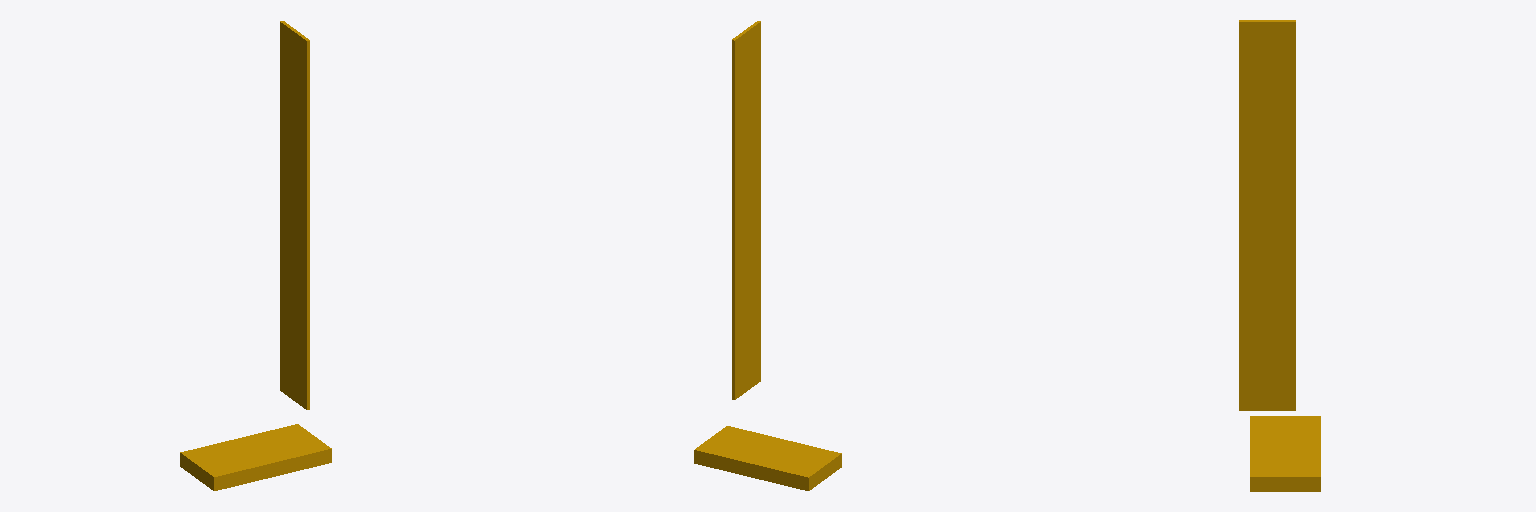
The robot description file, URDF, robot "threedofexample":
<?xml version="1.0"?>

<robot name="threedofexample">

  <!-- ******************************************************** -->
  <!-- ******************* Kinematic Chain ******************** -->
  <!-- ******************************************************** -->
  <!-- Note the 'origin' tag in the joints defines the shift and
       reorientation, i.e. the transform.  For moving joints, this
       happens before the continuous joint rotates around 'axis'. -->

  <!-- World can't take a visual element (at least in Gazebo). -->
  <link name="world"/>

  <joint name="placement" type="fixed">
    <parent link="world"/>
    <child  link="baseplate"/>
    <origin xyz="0 0 0" rpy="0 0 0"/>			<!-- WHERE IS THE BASE -->
  </joint>

  <!-- BASE PLATE: Shift across the base plate to the base motor. --> 
  <link name="baseplate">
    <visual>
      <origin xyz="0.0 0.025 0.0125" rpy="0 0 0"/>
      <geometry>
	<box size="0.2 0.1 0.0230"/>
      </geometry>
      <material name="wood"/>
    </visual>
  </link>

  <joint name="baseplate" type="fixed">
    <parent link="baseplate"/>
    <child  link="basemotor"/>
    <origin xyz="0 0 0.0230" rpy="0 0 -1.5708"/>
  </joint>

  <!-- BASE MOTOR: Thickness: X5 = 31.1mm, X8 = 45.1mm -->
  <link name="basemotor">
    <visual>
      <geometry>
        <mesh filename="package://basic134/meshes/X5.stl"
	      scale="0.001 0.001 0.001"/>
      </geometry>
      <material name="hebi"/>
    </visual>
  </link>

  <joint name="base" type="continuous">
    <parent link="basemotor"/>
    <child  link="lbracket"/>
    <origin xyz="0 0 0.0311" rpy="0 0 0"/>
    <axis   xyz="0 0 1"/>
  </joint>

  <!-- L BRACKET: Shift and rotate across the L bracket. -->
  <link name="lbracket">
    <!-- Add a visual element -->
  </link>

  <joint name="lbracket" type="fixed">
    <parent link="lbracket"/>
    <child  link="shouldermotor"/>
    <origin xyz="0 0.1 0.1" rpy="0 -1.5708 1.5708"/>	  <!-- L BRACKET DIMENIONS -->
  </joint>

  <!-- SHOULDER MOTOR: Thickness: X5 = 31.1mm, X8 = 45.1mm -->
  <link name="shouldermotor">
    <visual>
      <geometry>
        <mesh filename="package://basic134/meshes/X8.stl"
	      scale="0.001 0.001 0.001"/>
      </geometry>
      <material name="hebi"/>
    </visual>
  </link>

  <joint name="shoulder" type="continuous">
    <parent link="shouldermotor"/>
    <child  link="upperarm"/>
    <origin xyz="0 0 0.0451" rpy="0 0 0"/>
    <axis   xyz="0 0 1"/>
  </joint>

  <!-- UPPER ARM: Shift across the upper arm (1/4in thickness) -->
  <link name="upperarm">
    <visual>
      <origin xyz="0.25 0 0.00285" rpy="0 0 0"/>
      <geometry>
	<box size="0.6 0.08 0.00570"/>
      </geometry>
      <material name="wood"/>
    </visual>
    <!-- Add a visual element -->
  </link>

  <joint name="upperarm" type="fixed">
    <parent link="upperarm"/>
    <child  link="elbowmotor"/>
    <origin xyz="0.5 0 0.0057" rpy="0 0 0"/>		  <!-- UPPER ARM DIMENIONS -->
  </joint>

  <!-- Elbow motor.  Thickness: X5 = 31.1mm, X8 = 45.1mm -->
  <link name="elbowmotor">
    <visual>
      <geometry>
        <mesh filename="package://basic134/meshes/X5.stl"
	      scale="0.001 0.001 0.001"/>
      </geometry>
      <material name="hebi"/>
    </visual>
  </link>

  <joint name="elbow" type="continuous">
    <parent link="elbowmotor"/>
    <child  link="lowerarm"/>
    <origin xyz="0 0 0.0311" rpy="0 0 0"/>
    <axis   xyz="0 0 1"/>
  </joint>

  <!-- Shift across the upper arm (1/4in thickness) -->
  <link name="lowerarm">
    <visual>
      <geometry>
        <mesh filename="package://basic134/meshes/basiclink.stl"/>
      </geometry>
      <material name="wood"/>
    </visual>
  </link>

  <joint name="lowerarm" type="fixed">
    <parent link="lowerarm"/>
    <child  link="tip"/>
    <origin xyz="0.5 0 0.00285" rpy="0 0 0"/>		  <!-- UPPER ARM DIMENIONS -->
  </joint>

  <!-- TIP FRAME -->
  <link name="tip"/>

  
  <!-- *************************************************** -->
  <!-- *************** Visual Link Elements ************** -->
  <!-- *************************************************** -->
  <!-- Note collada .dae files have better color/texture   -->
  <!-- suppport that STL files.                            -->

  <!-- Colors -->
  <material name="wood">  <color rgba="0.82 0.62 0.04 1"/>  </material>
  <material name="hebi">  <color rgba="0.82 0.06 0.06 1"/>  </material>

</robot>

--- Facts derived from the render (not from the file) ---
Views: 3 orthographic renders of the robot side by side, from view 1: azimuth 30°, elevation 25°; view 2: azimuth 150°, elevation 25°; view 3: azimuth 270°, elevation 25°.
Robot: threedofexample — 9 links, 8 joints (3 continuous, 5 fixed); root link world; default pose: all joints at 0.
Visible links, largest first — view 1: upperarm, baseplate; view 2: upperarm, baseplate; view 3: upperarm, baseplate.
Boxes of the visible links, x1=… form: upperarm: x1=280, y1=21, x2=309, y2=409; baseplate: x1=180, y1=424, x2=331, y2=490; upperarm: x1=732, y1=21, x2=760, y2=399; baseplate: x1=694, y1=426, x2=841, y2=490; upperarm: x1=1239, y1=20, x2=1295, y2=410; baseplate: x1=1250, y1=416, x2=1320, y2=491.
Size in the robot's own frame: 0.2 by 0.115 by 0.7031 metres.
0 mesh visuals loaded from 3 distinct referenced files (none loaded); not drawn: 4 (file found but could not be loaded).